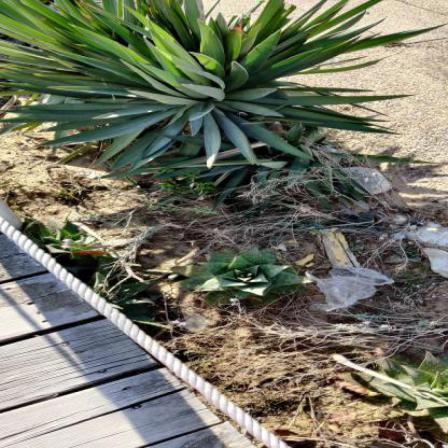Cigarette: (402, 178, 410, 183)
Plastic bag - wrapper: (306, 264, 396, 312), (305, 208, 377, 230), (356, 201, 394, 221), (174, 313, 216, 331)
